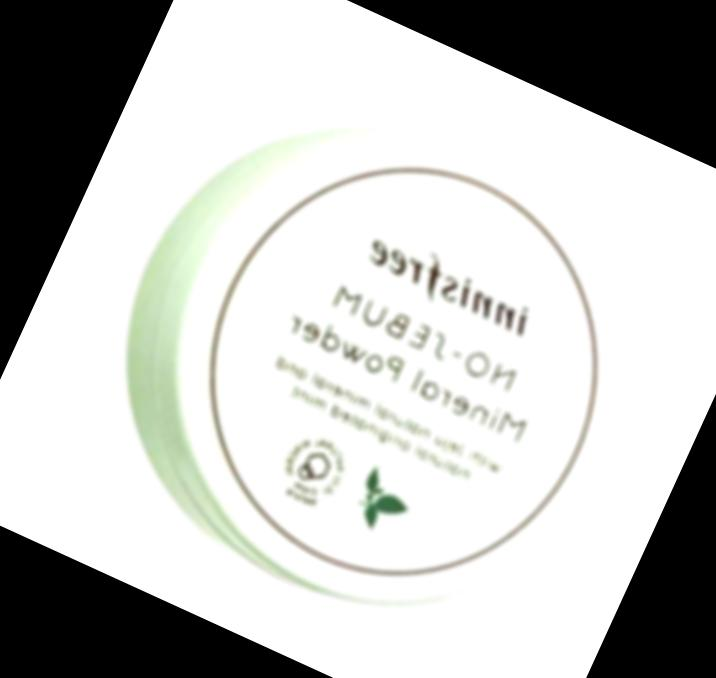cosmetic: (64, 52, 691, 669)
